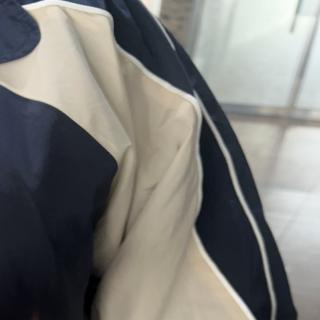fire: (27, 318, 41, 320)
